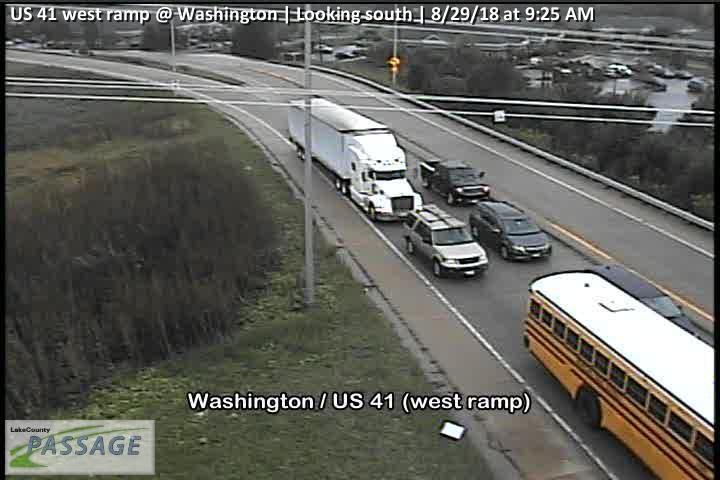Bus: (521, 270, 720, 480)
SUV: (402, 203, 487, 276)
Sedan: (468, 199, 552, 262)
Truck: (287, 95, 424, 220), (417, 154, 492, 204)
